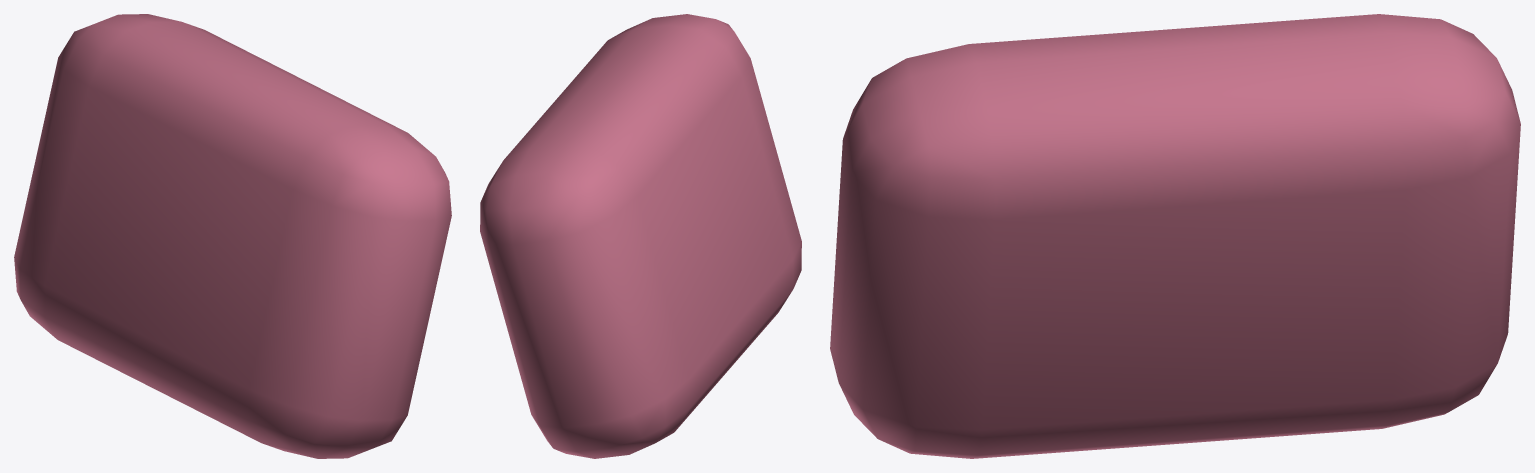
File: hunters_wimb_pillow1.fbx
The picture shows the model from 3 angles, left to right: view 1: azimuth 30°, elevation 25°; view 2: azimuth 150°, elevation 25°; view 3: azimuth 270°, elevation 25°; orthographic projection. The views are drawn at different scales.
Parts seen in each view (by area): view 1: PinkPillow.001; view 2: PinkPillow.001; view 3: PinkPillow.001.
Boxes of the visible parts, bbox=[...] form: PinkPillow.001: bbox=[14, 14, 451, 458]; PinkPillow.001: bbox=[480, 14, 801, 458]; PinkPillow.001: bbox=[830, 14, 1520, 458].
Bounding box in the file's own units: 18.56 × 23.08 × 35.47.
